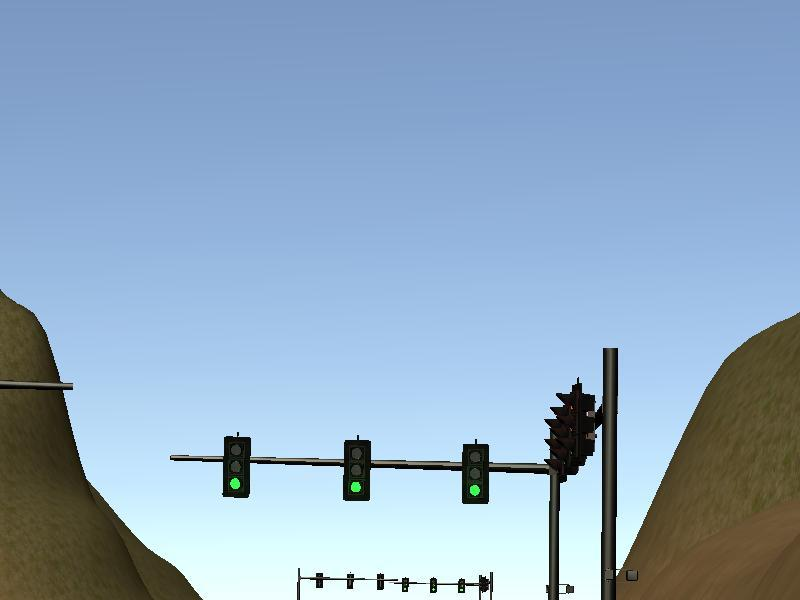Green: (223, 436, 252, 499), (343, 439, 371, 502), (461, 443, 489, 506)
